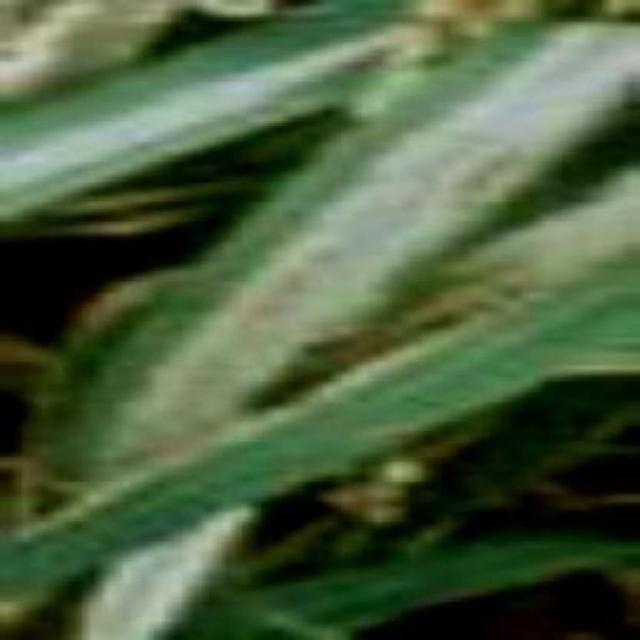Brown_Spot: (160, 21, 638, 382)
